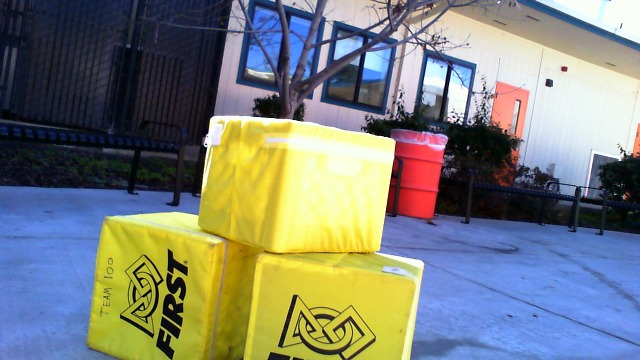cube: (194, 111, 404, 254), (90, 210, 269, 360), (241, 247, 429, 360)
